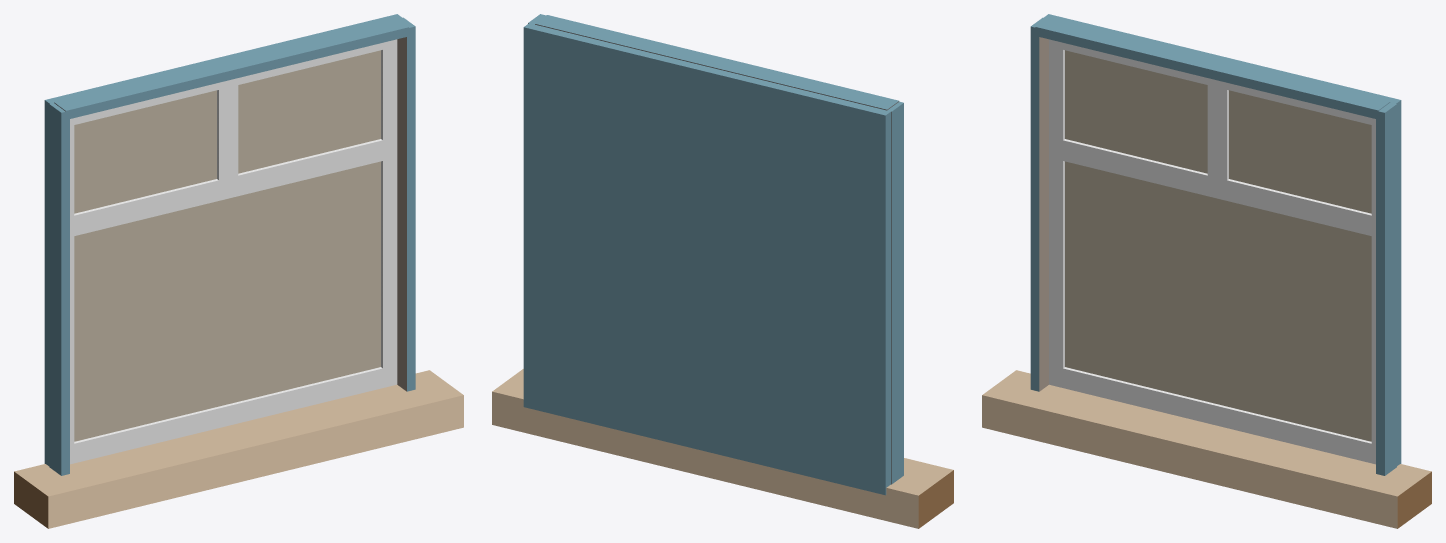
The model's file is window.obj.
3 renders of one model, left to right at view 1: azimuth 30°, elevation 25°; view 2: azimuth 150°, elevation 25°; view 3: azimuth 330°, elevation 25°, orthographic. The views are drawn at different scales.
Parts seen in each view (by area): view 1: pasted__pCube3; view 2: pasted__pCube3; view 3: pasted__pCube3.
Boxes of the visible parts, left/top/right/bottom form: pasted__pCube3: left=14, top=14, right=463, bottom=528; pasted__pCube3: left=492, top=14, right=953, bottom=528; pasted__pCube3: left=982, top=14, right=1431, bottom=528.
Bounding box in the file's own units: 1.05 × 0.961 × 0.1539.
Materials: 8 (7 with a texture image).
